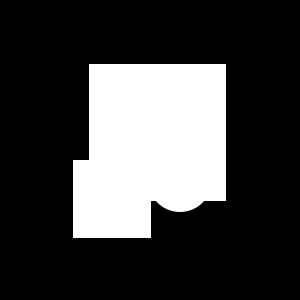circle: (89, 64, 226, 201), (73, 160, 151, 238)
rectangle: (148, 148, 212, 212)
